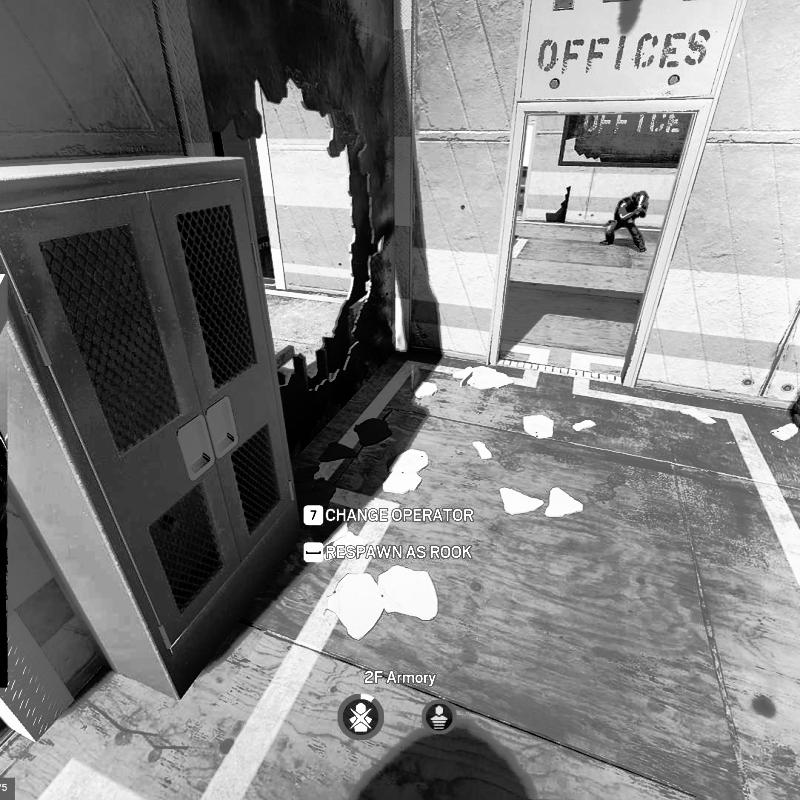Character: (598, 188, 651, 254)
Head: (632, 190, 650, 207)
